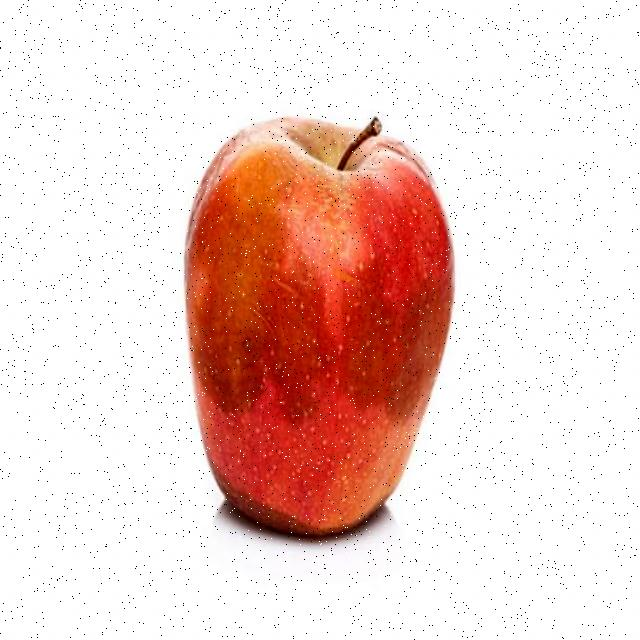ROT: (164, 70, 466, 544)
